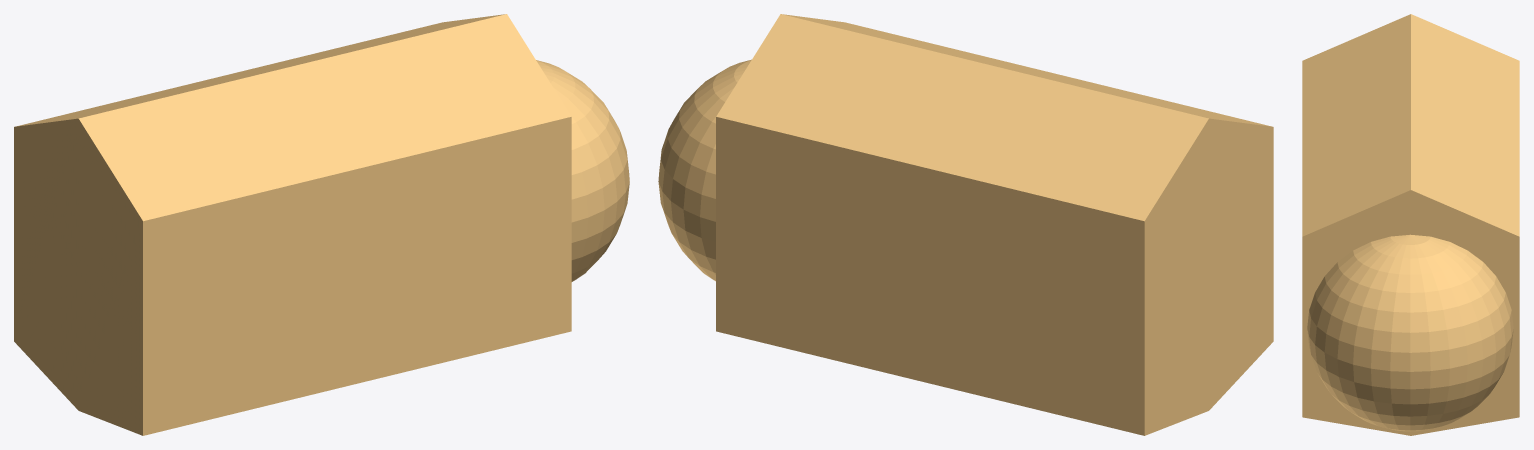
The model's file is R_finger1.obj.
3 views of the same model, side by side, from view 1: azimuth 30°, elevation 25°; view 2: azimuth 150°, elevation 25°; view 3: azimuth 270°, elevation 25° (orthographic). The views are drawn at different scales.
Visible parts, largest first — view 1: finger1球.001_球.030; view 2: finger1球.001_球.030; view 3: finger1球.001_球.030.
Part boxes in pixels (x1=…): finger1球.001_球.030: x1=14, y1=14, x2=629, y2=435; finger1球.001_球.030: x1=658, y1=14, x2=1273, y2=435; finger1球.001_球.030: x1=1302, y1=14, x2=1519, y2=435.
Bounding box in the file's own units: 1.05 × 0.5472 × 0.4376.
